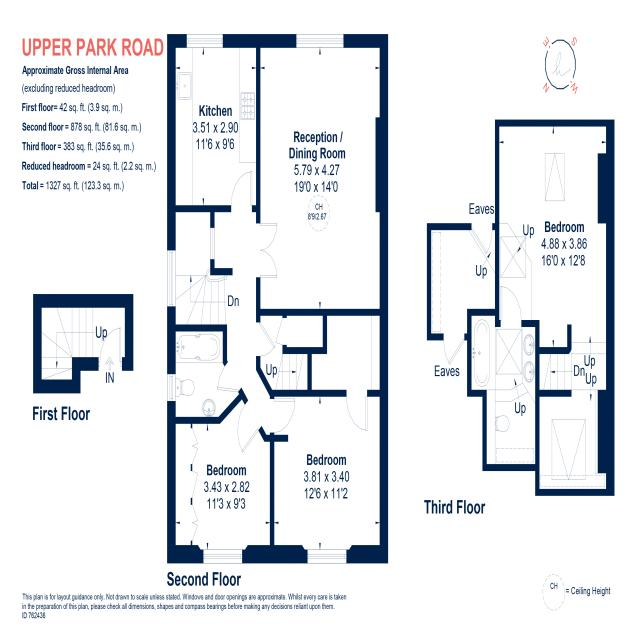DOOR: (236, 396, 264, 456), (344, 388, 369, 434), (229, 169, 254, 214), (499, 283, 524, 328), (268, 397, 297, 435), (215, 359, 243, 394), (441, 331, 466, 370), (255, 320, 278, 359), (470, 221, 494, 258)
DOUBLE DOOR: (259, 221, 278, 279)
ROOM: (255, 33, 388, 317), (495, 119, 615, 355), (269, 390, 389, 564), (166, 390, 275, 564), (167, 33, 261, 213)
WINDOW: (295, 32, 346, 50), (306, 548, 348, 565), (185, 33, 224, 50), (166, 249, 177, 309), (166, 373, 177, 403), (209, 226, 216, 261)
